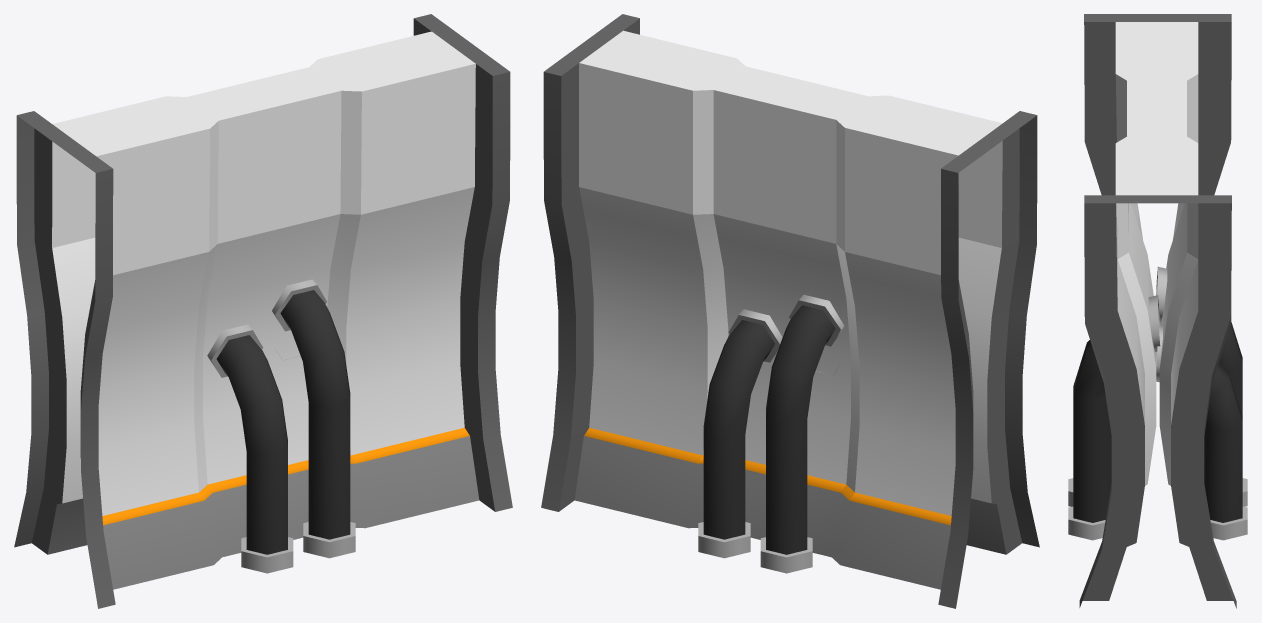
File: SM_ExteriorWall_06_Elevator.fbx
3 renders of one model, left to right at view 1: azimuth 30°, elevation 25°; view 2: azimuth 150°, elevation 25°; view 3: azimuth 270°, elevation 25°, orthographic. The views are drawn at different scales.
Parts seen in each view (by area): view 1: SM_ExteriorWall_06_Elevator; view 2: SM_ExteriorWall_06_Elevator; view 3: SM_ExteriorWall_06_Elevator.
Boxes of the visible parts, x1,y1,x2,y2 form: SM_ExteriorWall_06_Elevator: [14, 14, 512, 608]; SM_ExteriorWall_06_Elevator: [541, 14, 1039, 608]; SM_ExteriorWall_06_Elevator: [1068, 14, 1247, 608].
Bounding box in the file's own units: 200 × 200 × 80.15.
Materials: 1 (1 with a texture image).
